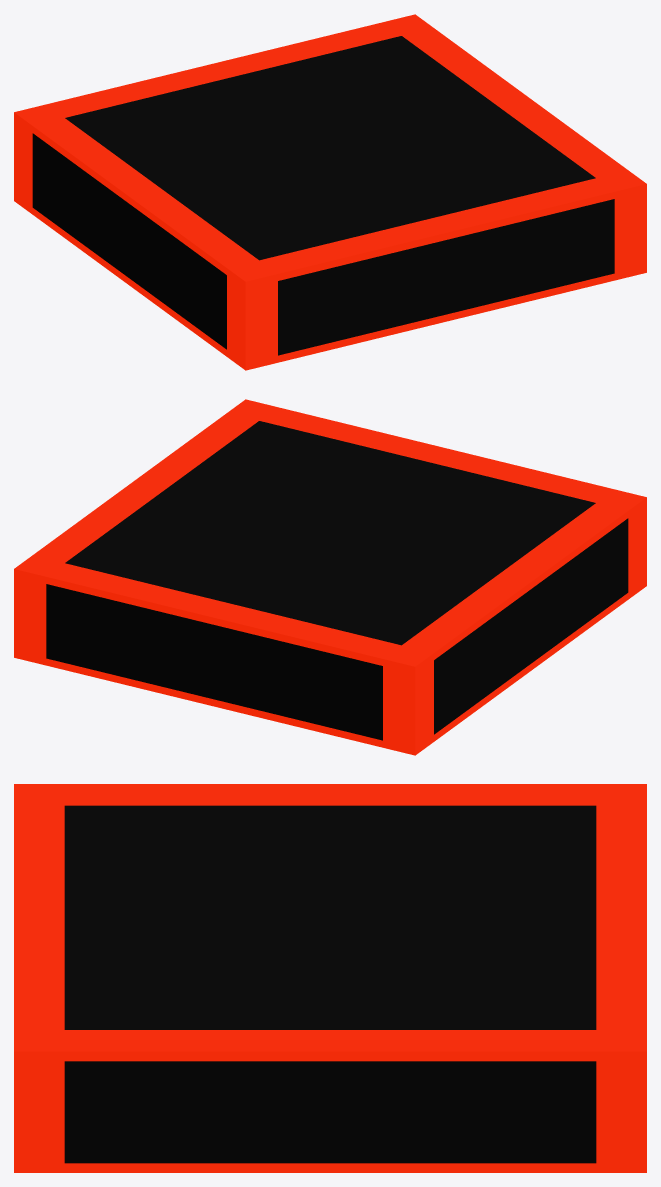
Rendered from start.glb.
3 renders of one model, top to bottom at view 1: azimuth 30°, elevation 25°; view 2: azimuth 150°, elevation 25°; view 3: azimuth 270°, elevation 25°, orthographic. The views are drawn at different scales.
Parts seen in each view (by area): view 1: start; view 2: start; view 3: start.
Boxes of the visible parts, x1,y1,x2,y2 form: start: (14, 14, 646, 370); start: (14, 399, 646, 755); start: (14, 784, 646, 1172).
Size of what is drawn, in the model's own units: 1.93 by 0.4086 by 1.93.
